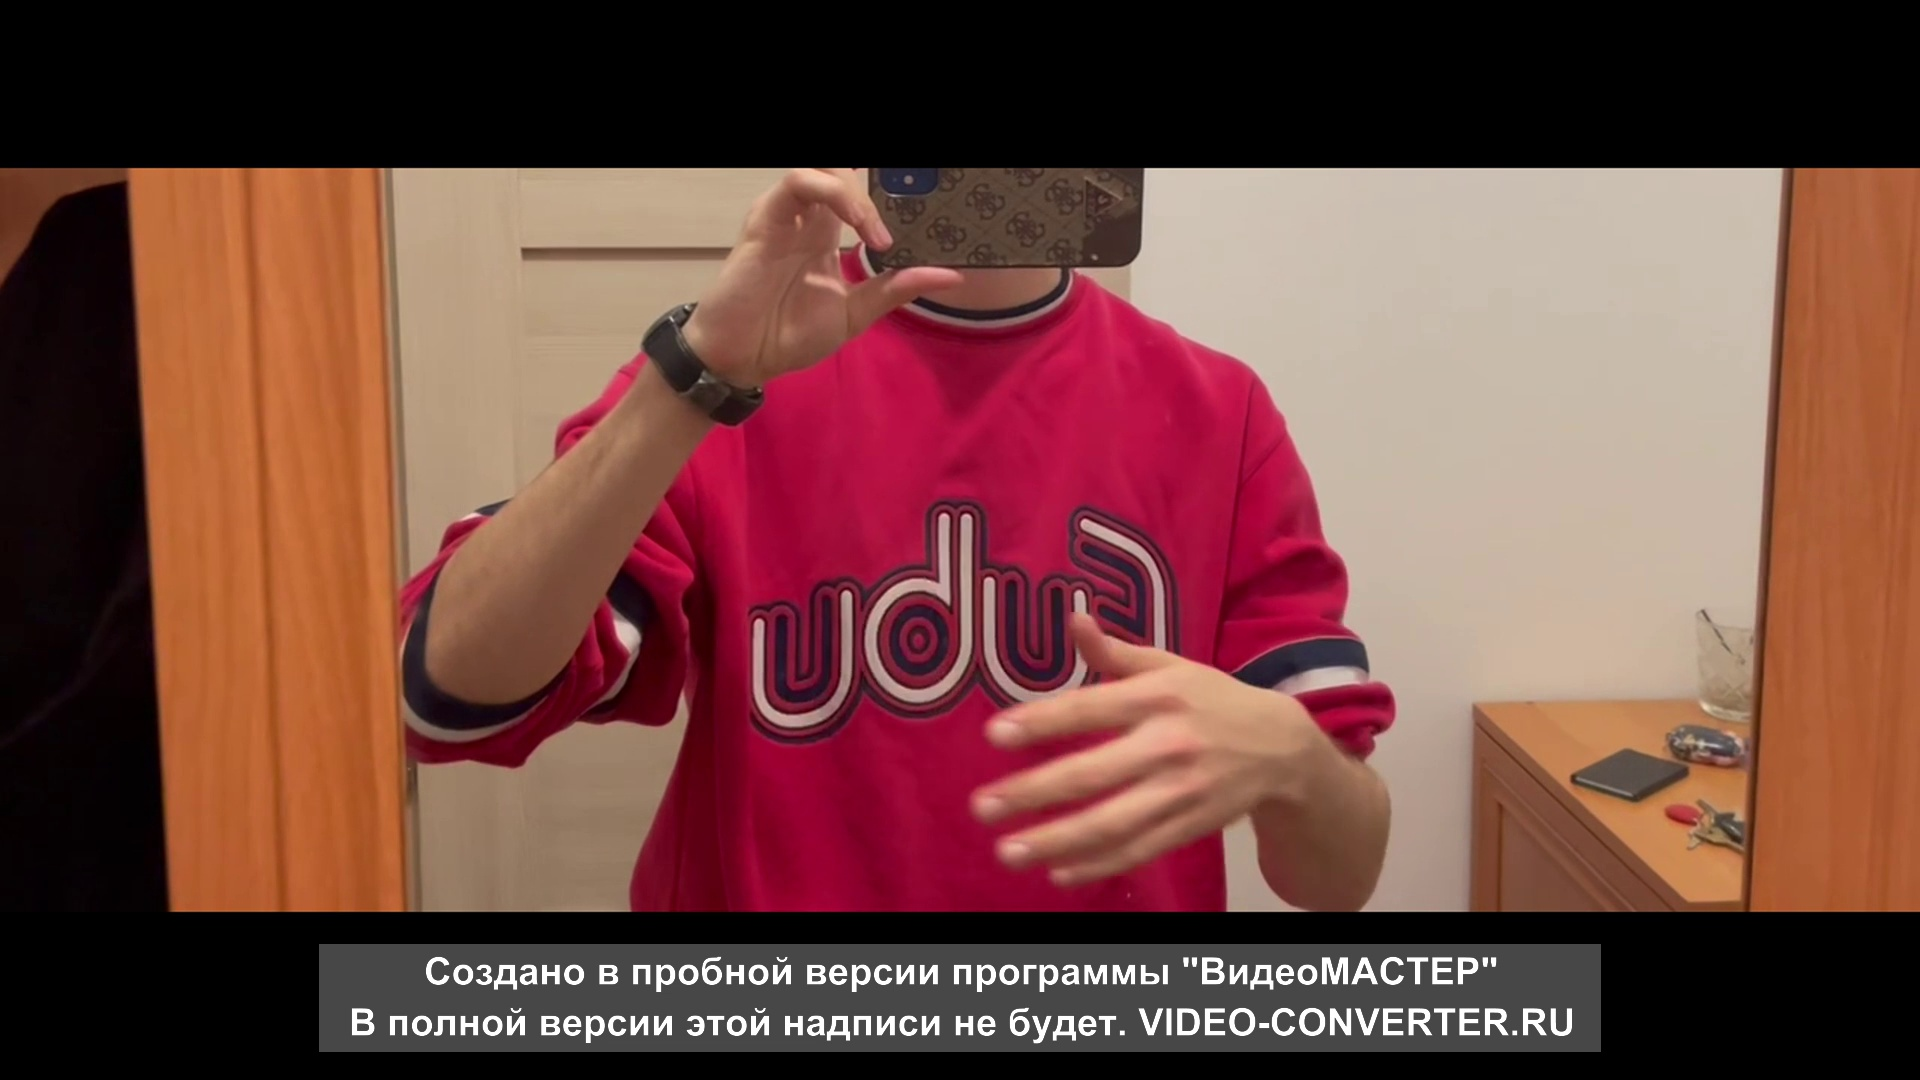Кисть: (972, 616, 1294, 884)
